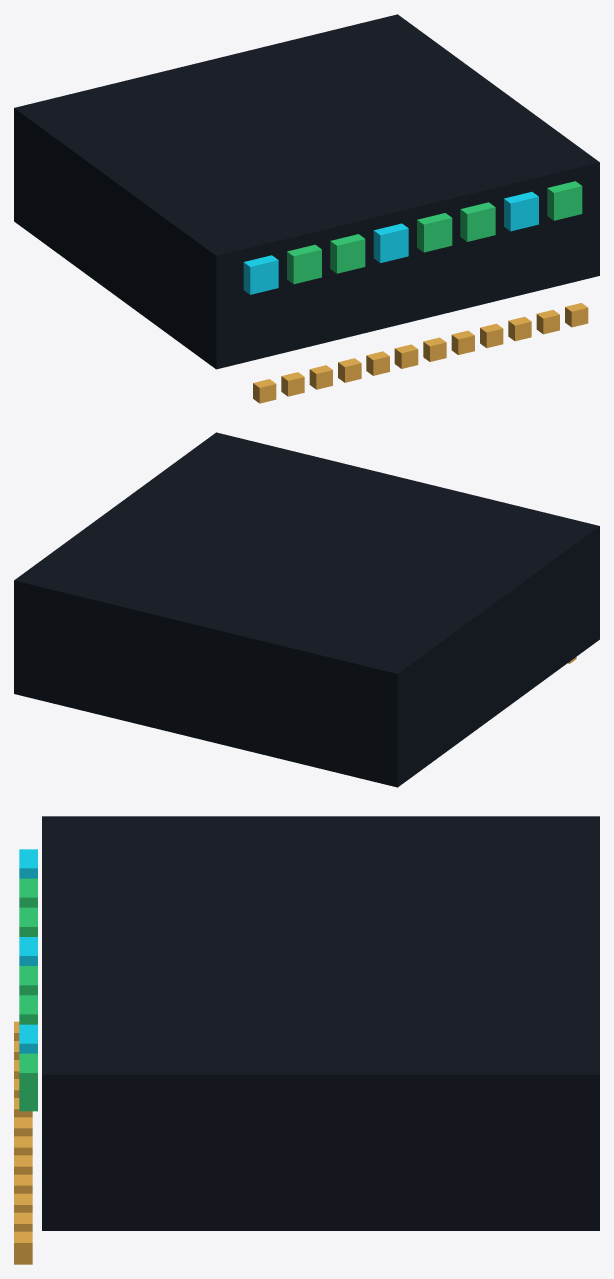
Rendered from 17_L92_LanderCentralAvionicsBody.fbx.
3 renders of one model, top to bottom at view 1: azimuth 30°, elevation 25°; view 2: azimuth 150°, elevation 25°; view 3: azimuth 270°, elevation 25°, orthographic. The views are drawn at different scales.
Visible parts, largest first — view 1: L92_LanderCentralAvionicsBody, L92_LanderCentralAvionicsBody_Part_0002, L92_LanderCentralAvionicsBody_Part_0003, L92_LanderCentralAvionicsBody_Part_0001; view 2: L92_LanderCentralAvionicsBody; view 3: L92_LanderCentralAvionicsBody, L92_LanderCentralAvionicsBody_Part_0003, L92_LanderCentralAvionicsBody_Part_0002, L92_LanderCentralAvionicsBody_Part_0001.
Part boxes in pixels (x1,y1,x2,y2): L92_LanderCentralAvionicsBody: (14, 14, 599, 369); L92_LanderCentralAvionicsBody_Part_0002: (287, 181, 582, 284); L92_LanderCentralAvionicsBody_Part_0003: (253, 303, 588, 403); L92_LanderCentralAvionicsBody_Part_0001: (243, 192, 538, 294); L92_LanderCentralAvionicsBody: (14, 432, 599, 787); L92_LanderCentralAvionicsBody: (42, 816, 599, 1230); L92_LanderCentralAvionicsBody_Part_0003: (14, 1021, 32, 1264); L92_LanderCentralAvionicsBody_Part_0002: (19, 878, 37, 1111); L92_LanderCentralAvionicsBody_Part_0001: (19, 849, 37, 1053).
Bounding box in the file's own units: 230 × 85 × 220.
